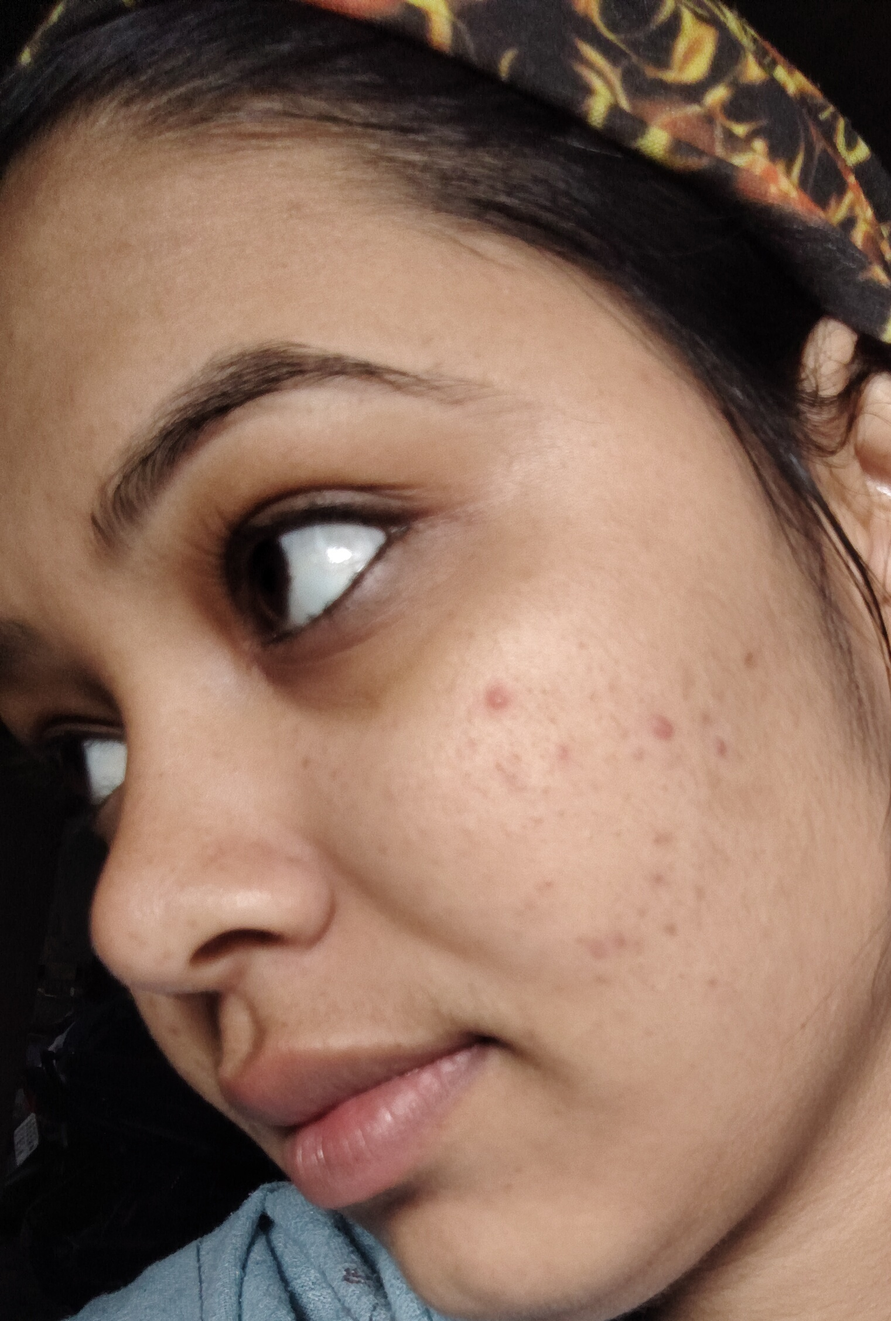closed_comedone: (571, 927, 649, 988), (704, 736, 761, 779), (545, 736, 593, 777), (737, 640, 780, 679)
papule: (473, 683, 551, 731), (638, 709, 695, 755), (645, 860, 693, 901)
